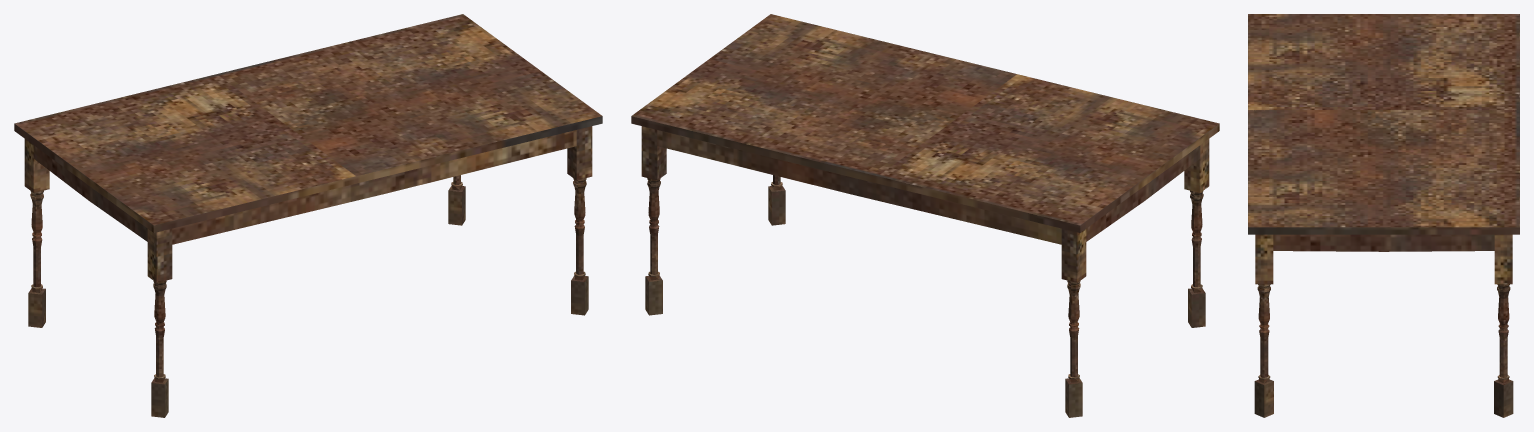
The model's file is Mesa comedor arreglada.fbx.
3 views of the same model, side by side, from view 1: azimuth 30°, elevation 25°; view 2: azimuth 150°, elevation 25°; view 3: azimuth 270°, elevation 25° (orthographic). The views are drawn at different scales.
Parts seen in each view (by area): view 1: Silla_Comedor; view 2: Silla_Comedor; view 3: Silla_Comedor.
Part boxes in pixels (x1,y1,x2,y2): Silla_Comedor: (14,14,602,417); Silla_Comedor: (631,14,1219,417); Silla_Comedor: (1248,14,1519,417).
Size of the model in its own units: 243 by 102 by 131.
